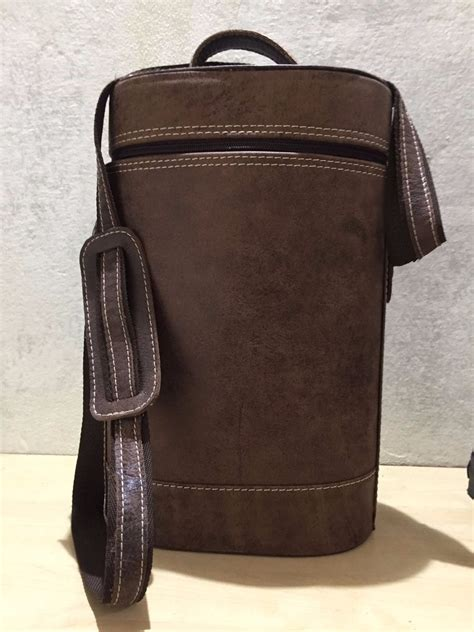cuero: (77, 30, 446, 611)
